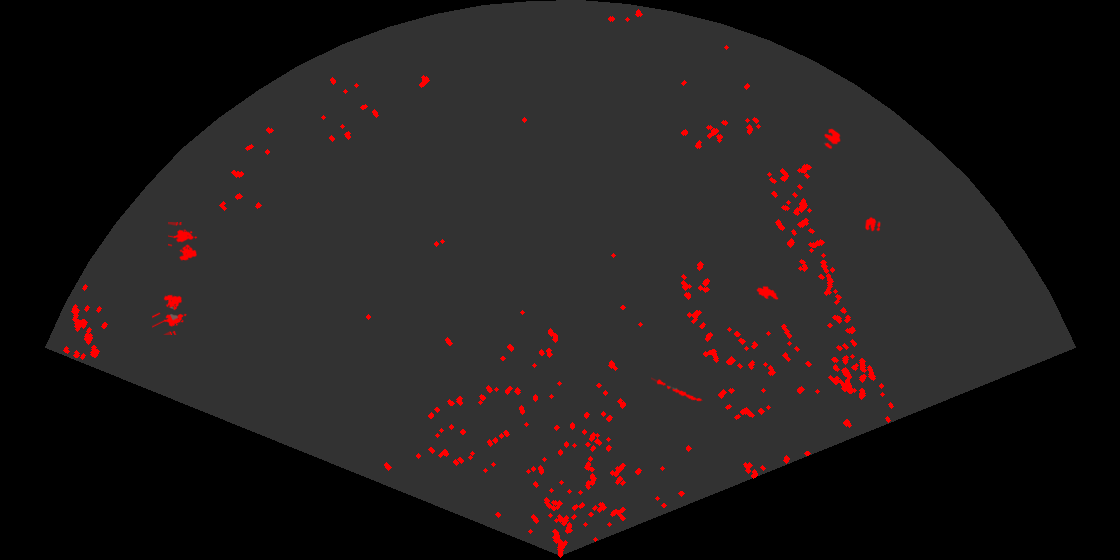AUV: (755, 284, 780, 301)
ball: (823, 127, 842, 151), (863, 215, 882, 233)
cage: (152, 293, 188, 335), (168, 222, 199, 262)
chain: (651, 376, 703, 403)
